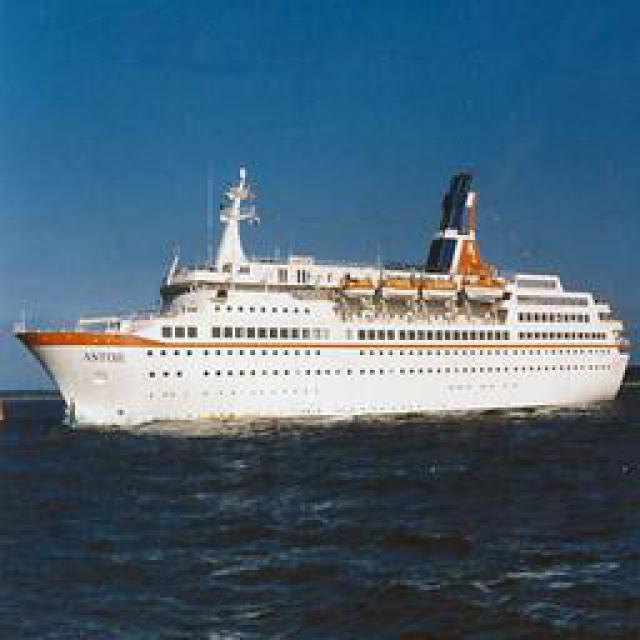Ship: (17, 157, 630, 435)
